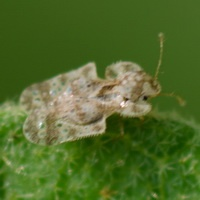insect: (20, 33, 163, 144)
